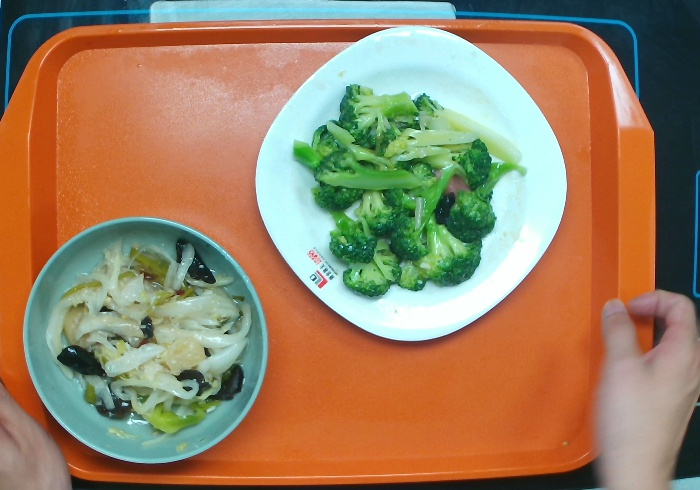ZNLD-Qing_Hua_Yuan_Wan: (21, 214, 271, 465)
ZNLD-Yuan_Jiao_Pan: (253, 24, 568, 342)
